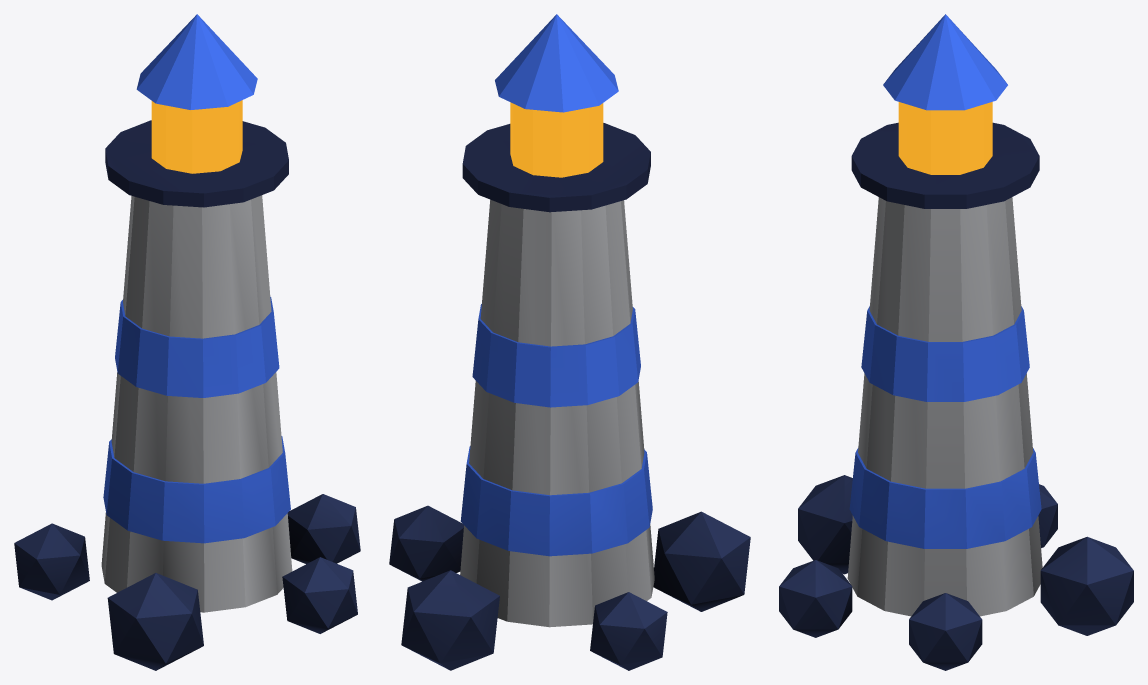
File: obj-lighthouse.glb
3 renders of one model, left to right at view 1: azimuth 30°, elevation 25°; view 2: azimuth 150°, elevation 25°; view 3: azimuth 270°, elevation 25°, orthographic. The views are drawn at different scales.
Visible parts, largest first — view 1: Cone, Cone.001, Cone.002, Cylinder.020, Icosphere.008, Cone.003, GLOW_lamp, Icosphere.007, Icosphere.009, Icosphere.005; view 2: Cone, Cone.001, Cone.002, Cylinder.020, Icosphere.006, Icosphere.008, Cone.003, GLOW_lamp, Icosphere.007, Icosphere.005; view 3: Cone, Cone.001, Cone.002, Cylinder.020, Icosphere.006, Cone.003, GLOW_lamp, Icosphere.005, Icosphere.009, Icosphere.008, Icosphere.007.
Boxes of the visible parts, <box> form: Cone: <box>101,195,292,612</box>; Cone.001: <box>103,436,290,543</box>; Cone.002: <box>115,297,279,397</box>; Cylinder.020: <box>105,120,288,207</box>; Icosphere.008: <box>107,573,203,670</box>; Cone.003: <box>136,14,257,109</box>; GLOW_lamp: <box>151,100,242,173</box>; Icosphere.007: <box>14,523,89,600</box>; Icosphere.009: <box>282,557,357,633</box>; Icosphere.005: <box>287,494,360,564</box>; Cone: <box>460,199,654,627</box>; Cone.001: <box>460,446,652,556</box>; Cone.002: <box>472,304,640,407</box>; Cylinder.020: <box>462,123,650,212</box>; Icosphere.006: <box>401,570,499,670</box>; Icosphere.008: <box>653,511,750,611</box>; Cone.003: <box>495,14,618,112</box>; GLOW_lamp: <box>510,102,603,177</box>; Icosphere.007: <box>590,592,667,670</box>; Icosphere.005: <box>389,505,463,581</box>; Cone: <box>847,197,1042,616</box>; Cone.001: <box>849,448,1041,548</box>; Cone.002: <box>861,306,1029,401</box>; Cylinder.020: <box>851,122,1039,208</box>; Icosphere.006: <box>1040,536,1133,635</box>; Cone.003: <box>883,14,1007,110</box>; GLOW_lamp: <box>898,102,992,174</box>; Icosphere.005: <box>909,593,982,670</box>; Icosphere.009: <box>779,560,852,637</box>; Icosphere.008: <box>798,475,852,574</box>; Icosphere.007: <box>1038,484,1057,548</box>.
Size of the model in its own units: 1.79 by 3.41 by 1.81.
